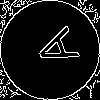A: (25, 25, 80, 74)
